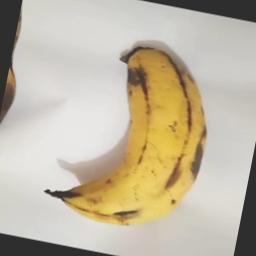Banana Unripe: (40, 29, 226, 240)
